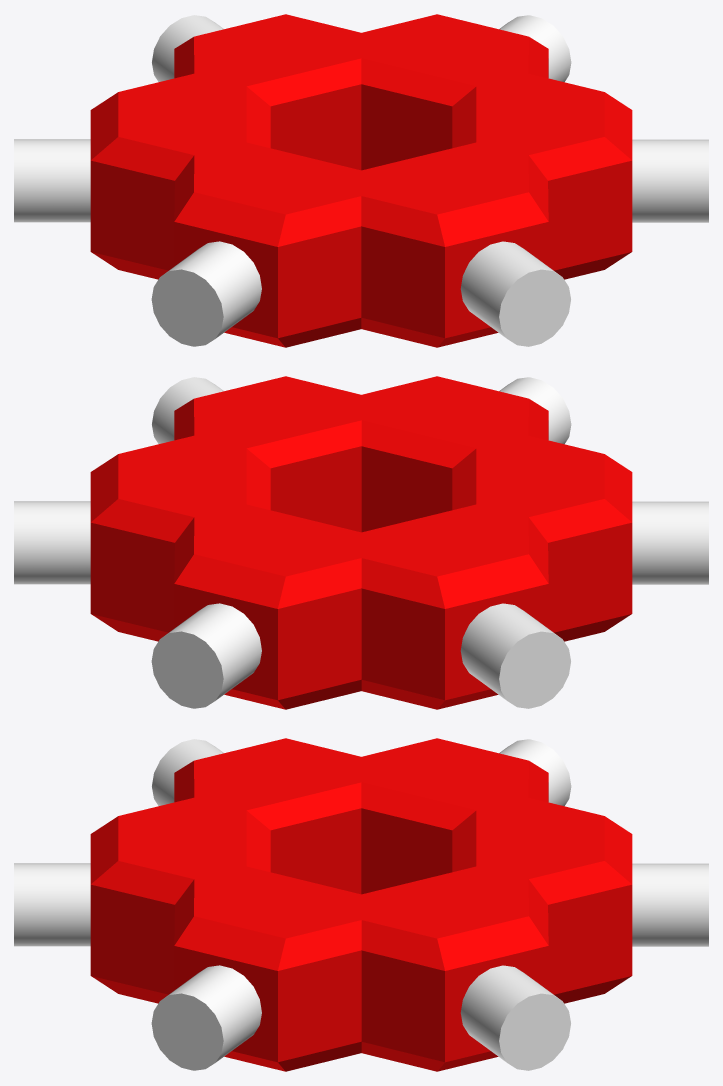
File: Holo_ferme.fbx
3 renders of one model, top to bottom at view 1: azimuth 30°, elevation 25°; view 2: azimuth 150°, elevation 25°; view 3: azimuth 270°, elevation 25°, orthographic.
Parts seen in each view (by area): view 1: Holo_ferme, Connexion (×6); view 2: Holo_ferme, Connexion (×6); view 3: Holo_ferme, Connexion (×6).
Part boxes in pixels (bbox=[...]): Holo_ferme: bbox=[90, 14, 632, 347]; Connexion (×6): bbox=[14, 15, 708, 346]; Holo_ferme: bbox=[90, 376, 632, 709]; Connexion (×6): bbox=[14, 377, 708, 708]; Holo_ferme: bbox=[90, 738, 632, 1071]; Connexion (×6): bbox=[14, 739, 708, 1070].
Bounding box in the file's own units: 722 × 165 × 780.
